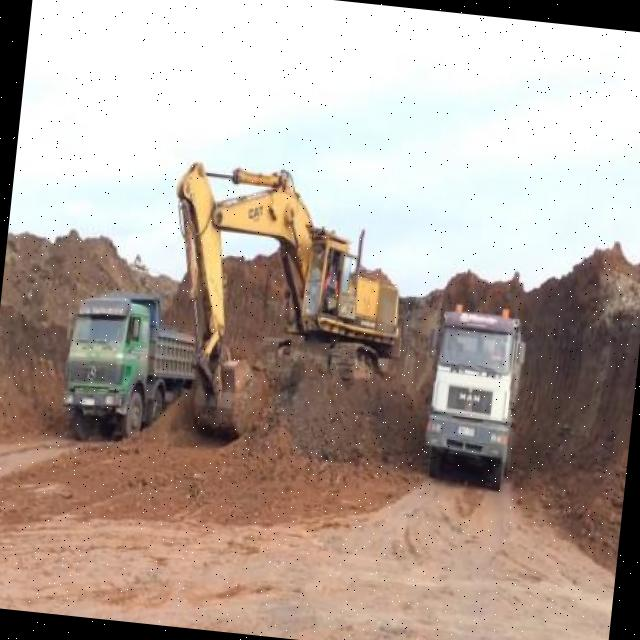Dump Truck: (59, 283, 201, 443), (423, 303, 526, 478)
Excavator: (152, 154, 418, 458)
